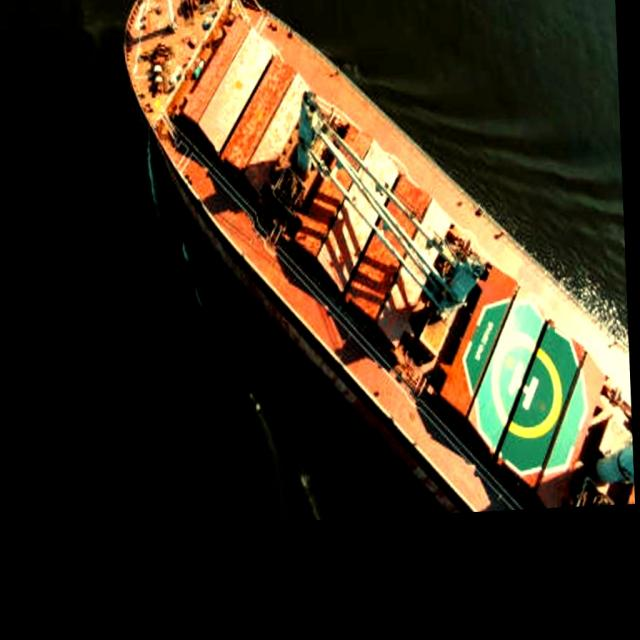helipad: (484, 329, 566, 442)
